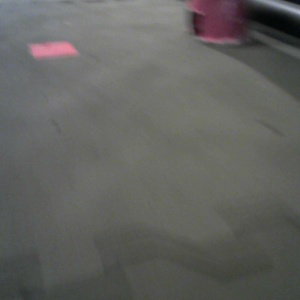Right: (190, 1, 249, 44)
